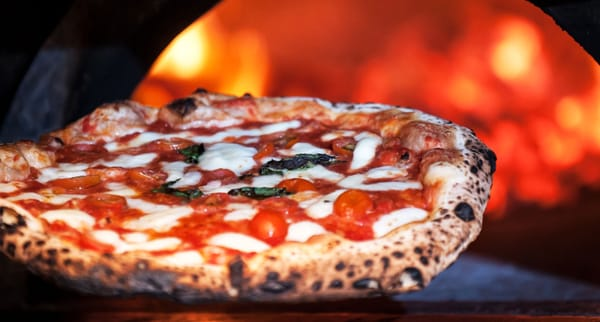sandwich: (0, 89, 498, 304)
